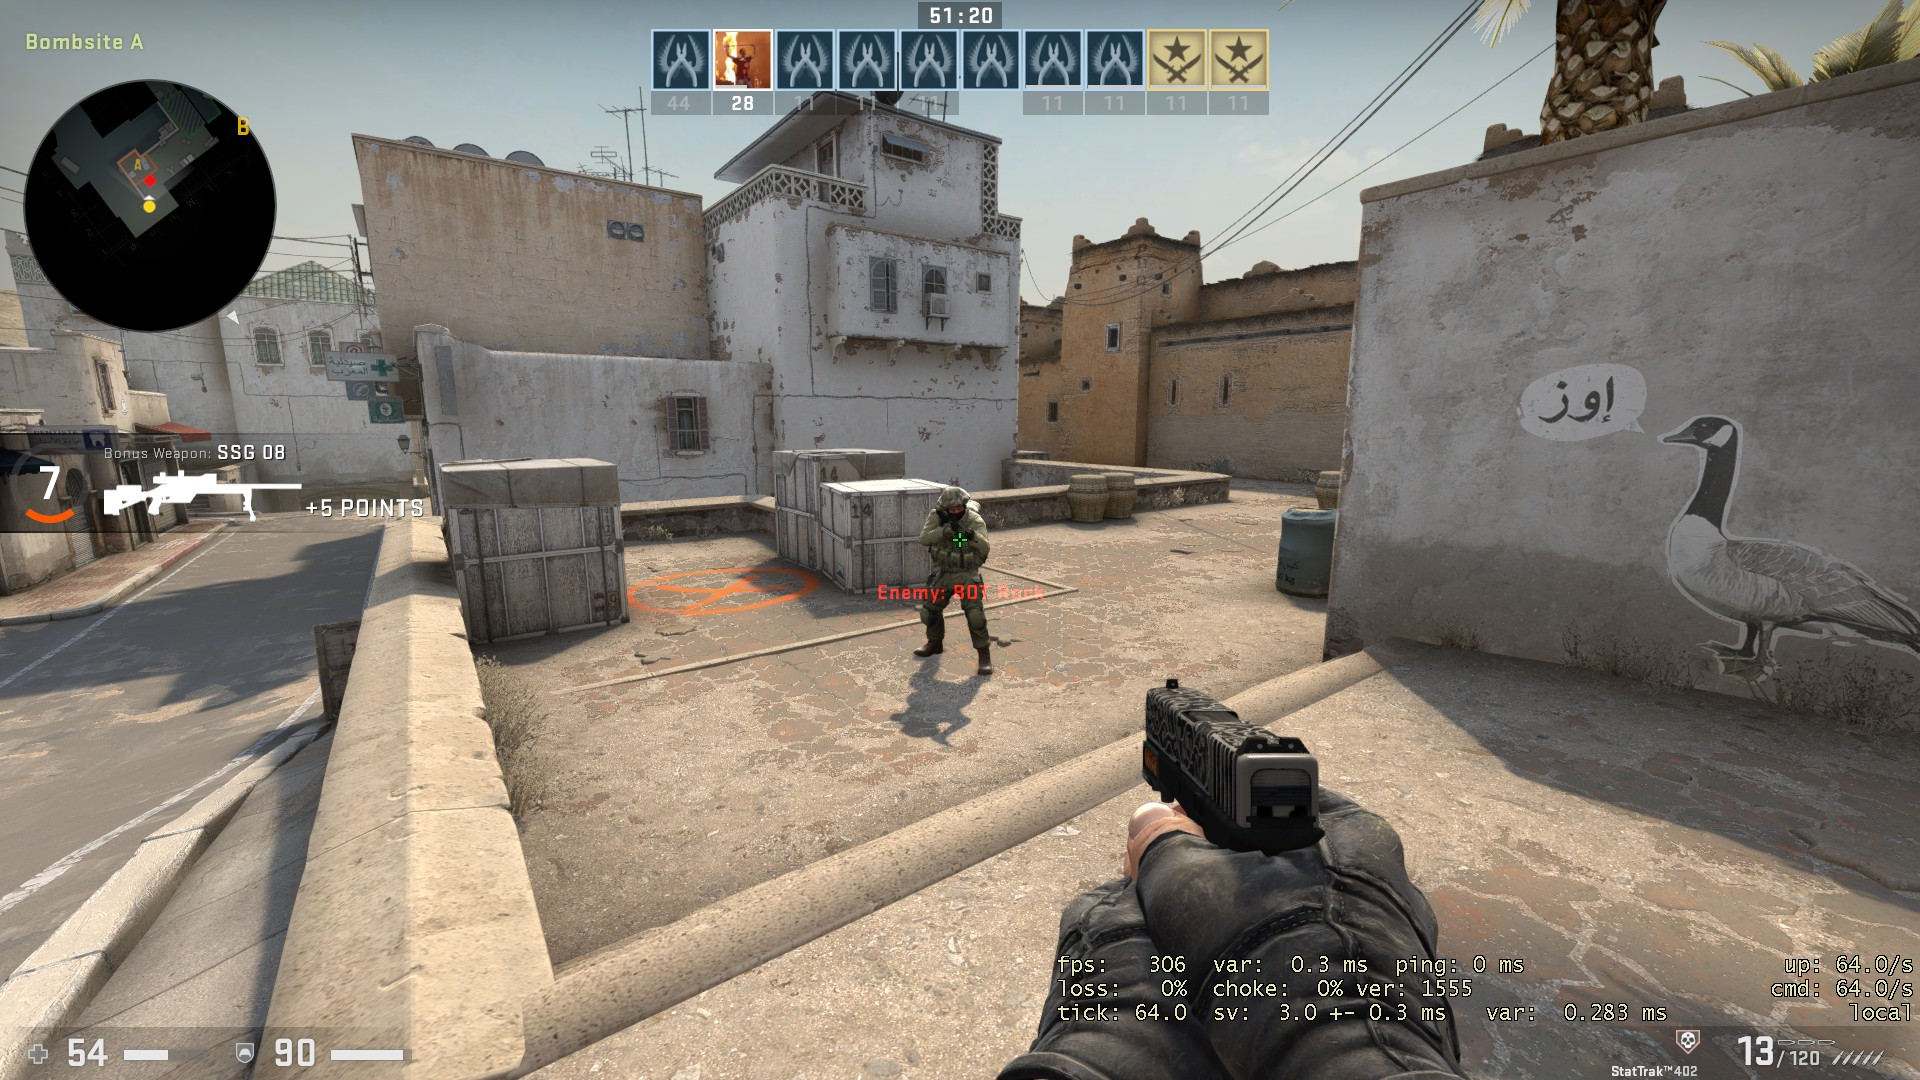player: (906, 482, 999, 680)
